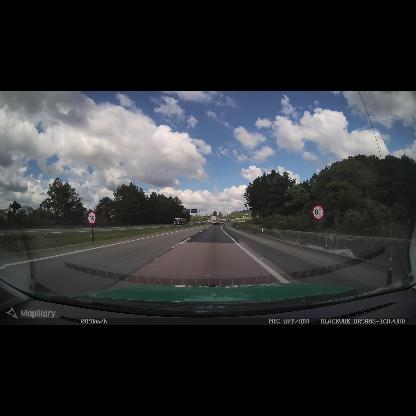R-19: (312, 205, 324, 220), (87, 211, 96, 225)
